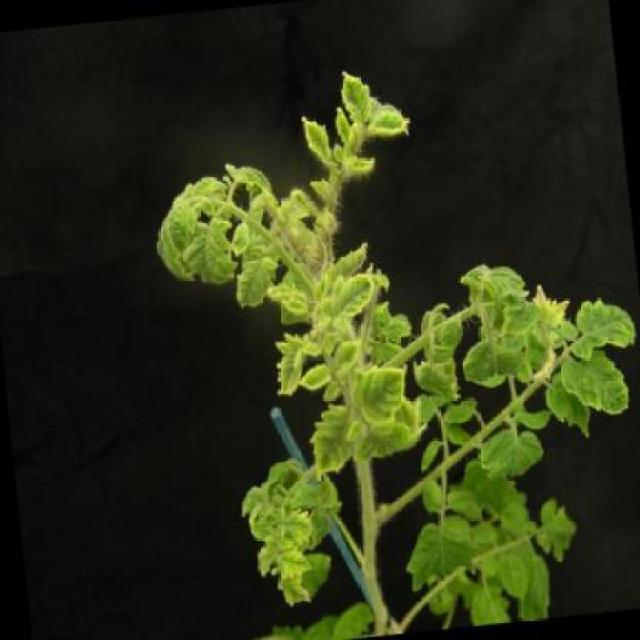Healthy Leaf: (349, 353, 423, 438), (302, 391, 359, 499), (553, 348, 631, 419), (570, 289, 640, 367), (225, 250, 280, 314), (321, 269, 379, 325), (197, 211, 240, 285), (267, 334, 315, 399), (334, 55, 374, 130), (276, 560, 316, 617), (369, 102, 418, 142), (279, 504, 322, 546), (190, 170, 227, 207), (276, 545, 317, 576)
